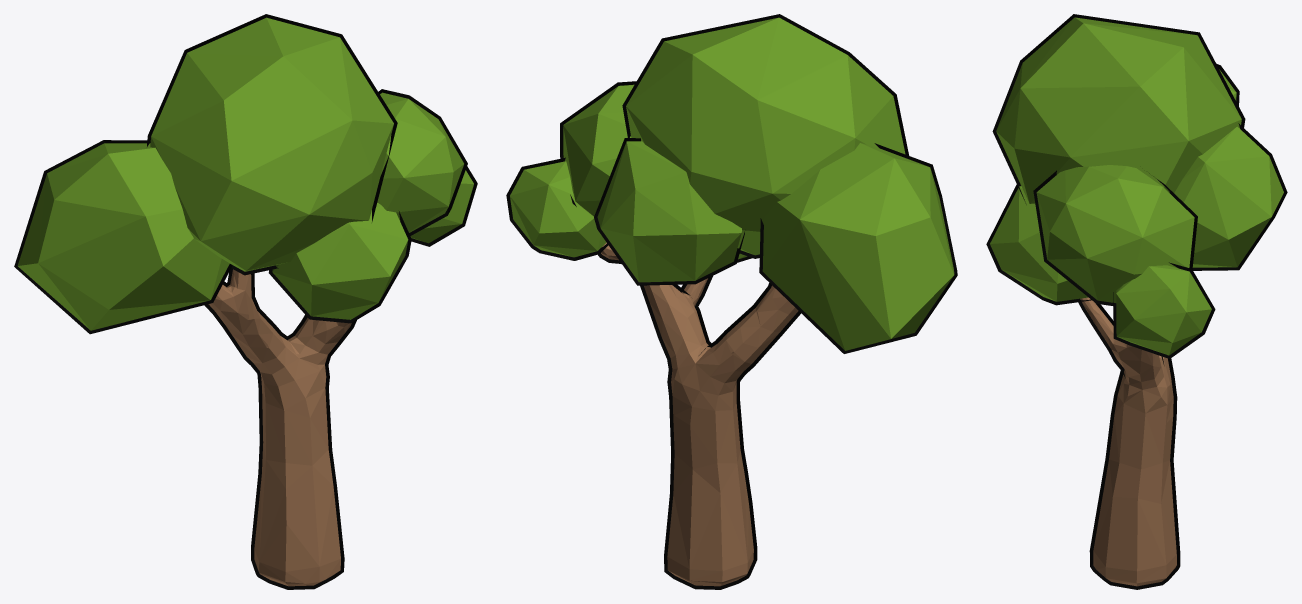
File: lowpoly_oak_tree.glb
The picture shows the model from 3 angles, left to right: view 1: azimuth 30°, elevation 25°; view 2: azimuth 150°, elevation 25°; view 3: azimuth 270°, elevation 25°; orthographic projection. The views are drawn at different scales.
Visible parts, largest first — view 1: Icosphere.009_1, Plane.004_0, Plane.002_2; view 2: Icosphere.009_1, Plane.004_0, Plane.002_2; view 3: Icosphere.009_1, Plane.004_0, Plane.002_2.
Part boxes in pixels (left/top/right/bottom): Icosphere.009_1: left=17, top=17, right=473, bottom=330; Plane.004_0: left=208, top=269, right=351, bottom=586; Plane.002_2: left=14, top=14, right=477, bottom=589; Icosphere.009_1: left=510, top=17, right=954, bottom=350; Plane.004_0: left=601, top=242, right=798, bottom=586; Plane.002_2: left=506, top=14, right=957, bottom=589; Icosphere.009_1: left=990, top=17, right=1283, bottom=355; Plane.004_0: left=1080, top=297, right=1176, bottom=586; Plane.002_2: left=986, top=14, right=1287, bottom=589.
Size of the model in its own units: 4.09 by 5.02 by 2.52.
